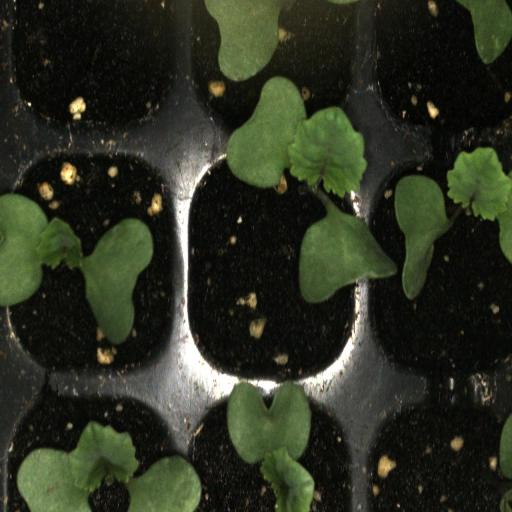Folha: (222, 75, 369, 198), (203, 0, 286, 82)
Germinacao: (6, 132, 187, 372), (184, 136, 364, 376), (364, 139, 512, 374), (1, 373, 186, 512), (182, 376, 363, 512)
